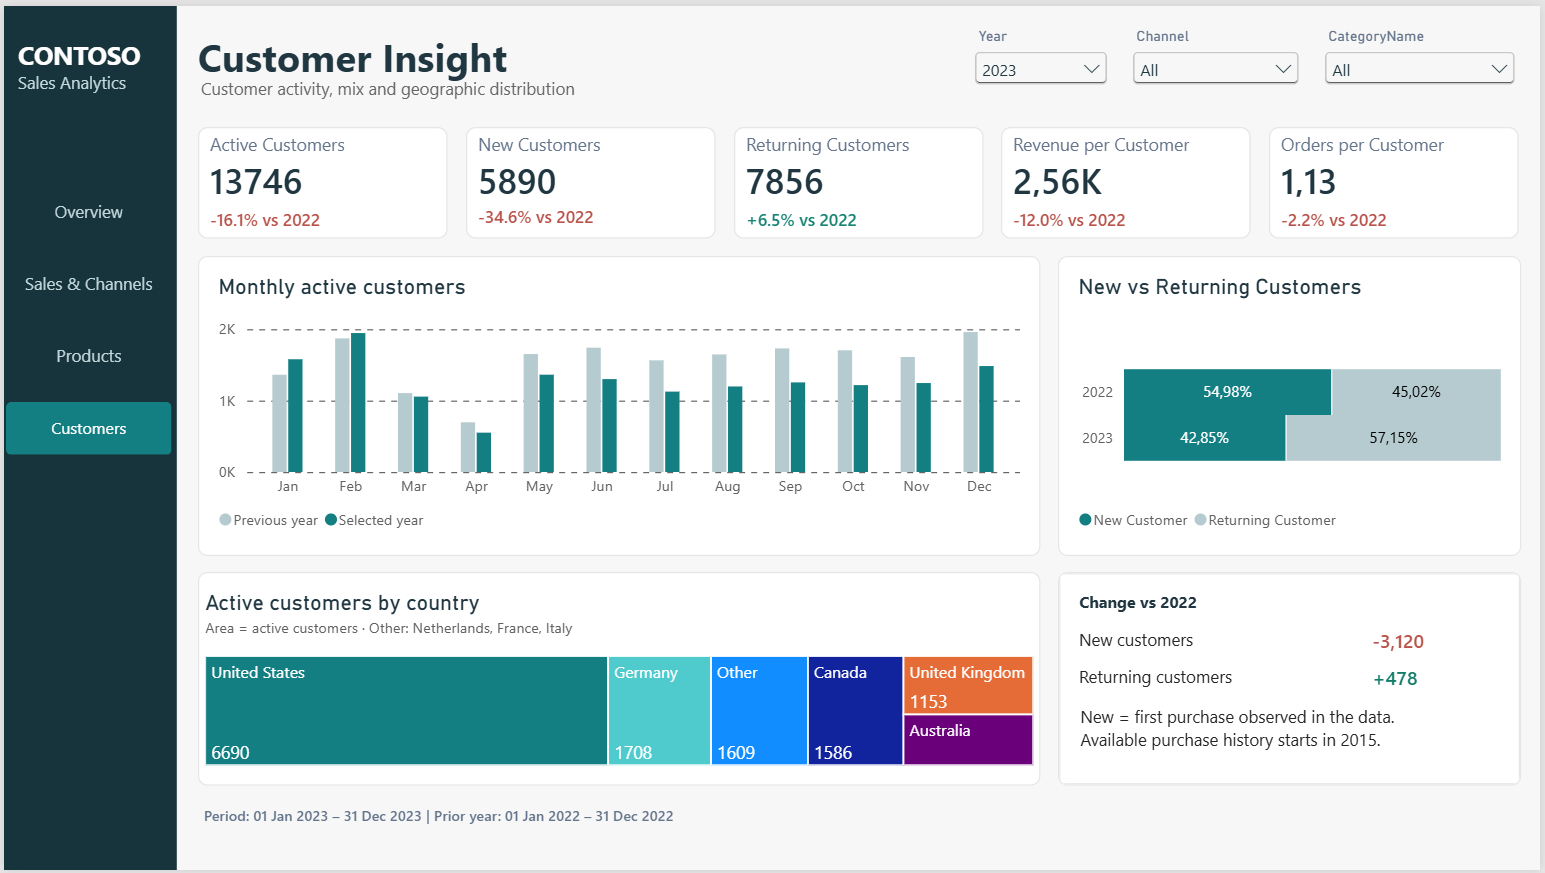

Layout of this report page (visuals, bound fields, positions):
{"tool":"powerbi","page":{"name":"Customers","canvas":[1280,720],"ordinal":4},"visuals":[{"type":"shape","box":[608,101,208,93],"z":0},{"type":"shape","box":[831,101,208,93],"z":1000},{"type":"shape","box":[1054,101,208,93],"z":2000},{"type":"shape","box":[0,0,144,720],"z":3000},{"type":"textbox","box":[12,26,120,64],"z":4000},{"type":"textbox","box":[162,20,600,45],"z":5000},{"type":"slicer","fields":{"Values":["Date.Year"]},"box":[804,18,120,56],"z":6000},{"type":"shape","box":[162,101,208,93],"z":7000},{"type":"shape","box":[385,101,208,93],"z":8000},{"type":"cardVisual","fields":{"Data":["_Measures.Active Customers"]},"box":[162,105,208,93],"z":9000},{"type":"cardVisual","fields":{"Data":["_Measures.New Customers"]},"box":[385,105,208,93],"z":10000},{"type":"cardVisual","fields":{"Data":["_Measures.Returning Customers"]},"box":[608,105,208,93],"z":11000},{"type":"cardVisual","fields":{"Data":["_Measures.Revenue per Customer"]},"box":[831,105,208,93],"z":12000},{"type":"cardVisual","fields":{"Data":["_Measures.Orders per Customer"]},"box":[1054,105,208,93],"z":13000},{"type":"cardVisual","fields":{"Data":["_Measures.Report Period Label"]},"box":[162,665,1102,18],"z":14000},{"type":"pageNavigator","box":[2,150,138,224],"z":15000},{"type":"slicer","fields":{"Values":["Store.Channel"]},"box":[936,18,148,56],"z":16000},{"type":"slicer","fields":{"Values":["Product.CategoryName"]},"box":[1096,18,168,56],"z":17000},{"type":"clusteredColumnChart","title":"Monthly active customers","fields":{"Category":["Date.MonthShort"],"Y":["_Measures.Active Customers PY","_Measures.Active Customers"]},"box":[162,208,702,250],"z":18000},{"type":"hundredPercentStackedBarChart","title":"New vs Returning Customers","fields":{"Category":["Comparison Year.Year"],"Y":["_Measures.Customer Mix New","_Measures.Customer Mix Returning"]},"box":[878,208,386,250],"z":19000},{"type":"treemap","title":"Active customers by country","fields":{"Group":["Customer.Country Group"],"Values":["_Measures.Active Customers"]},"box":[162,472,702,178],"z":20000},{"type":"shape","box":[878,472,386,178],"z":21000},{"type":"cardVisual","fields":{"Data":["_Measures.Customer Change Title"]},"box":[880,480,368,32],"z":22000},{"type":"textbox","box":[896,518,220,24],"z":23000},{"type":"cardVisual","fields":{"Data":["_Measures.Customer New Change Label"]},"box":[1124,514,122,28],"z":24000},{"type":"textbox","box":[896,549,220,24],"z":25000},{"type":"cardVisual","fields":{"Data":["_Measures.Customer Returning Change Label"]},"box":[1124,545,122,28],"z":26000},{"type":"textbox","box":[896,582,350,50],"z":27000},{"type":"textbox","box":[164,59,600,20],"z":27001}]}

Visuals, with their boxes on the page's 1280x720 design canvas (x1, y1, x2, y2). These are canvas units, not pixel positions in the 1545x873 screenshot, which may show the page scaled, cropped or inside an application window:
shape: 608,101,816,194
shape: 831,101,1039,194
shape: 1054,101,1262,194
shape: 0,0,144,720
textbox: 12,26,132,90
textbox: 162,20,762,65
slicer - Date.Year: 804,18,924,74
shape: 162,101,370,194
shape: 385,101,593,194
cardVisual - _Measures.Active Customers: 162,105,370,198
cardVisual - _Measures.New Customers: 385,105,593,198
cardVisual - _Measures.Returning Customers: 608,105,816,198
cardVisual - _Measures.Revenue per Customer: 831,105,1039,198
cardVisual - _Measures.Orders per Customer: 1054,105,1262,198
cardVisual - _Measures.Report Period Label: 162,665,1264,683
pageNavigator: 2,150,140,374
slicer - Store.Channel: 936,18,1084,74
slicer - Product.CategoryName: 1096,18,1264,74
"Monthly active customers" clusteredColumnChart: 162,208,864,458
"New vs Returning Customers" hundredPercentStackedBarChart: 878,208,1264,458
"Active customers by country" treemap: 162,472,864,650
shape: 878,472,1264,650
cardVisual - _Measures.Customer Change Title: 880,480,1248,512
textbox: 896,518,1116,542
cardVisual - _Measures.Customer New Change Label: 1124,514,1246,542
textbox: 896,549,1116,573
cardVisual - _Measures.Customer Returning Change Label: 1124,545,1246,573
textbox: 896,582,1246,632
textbox: 164,59,764,79
